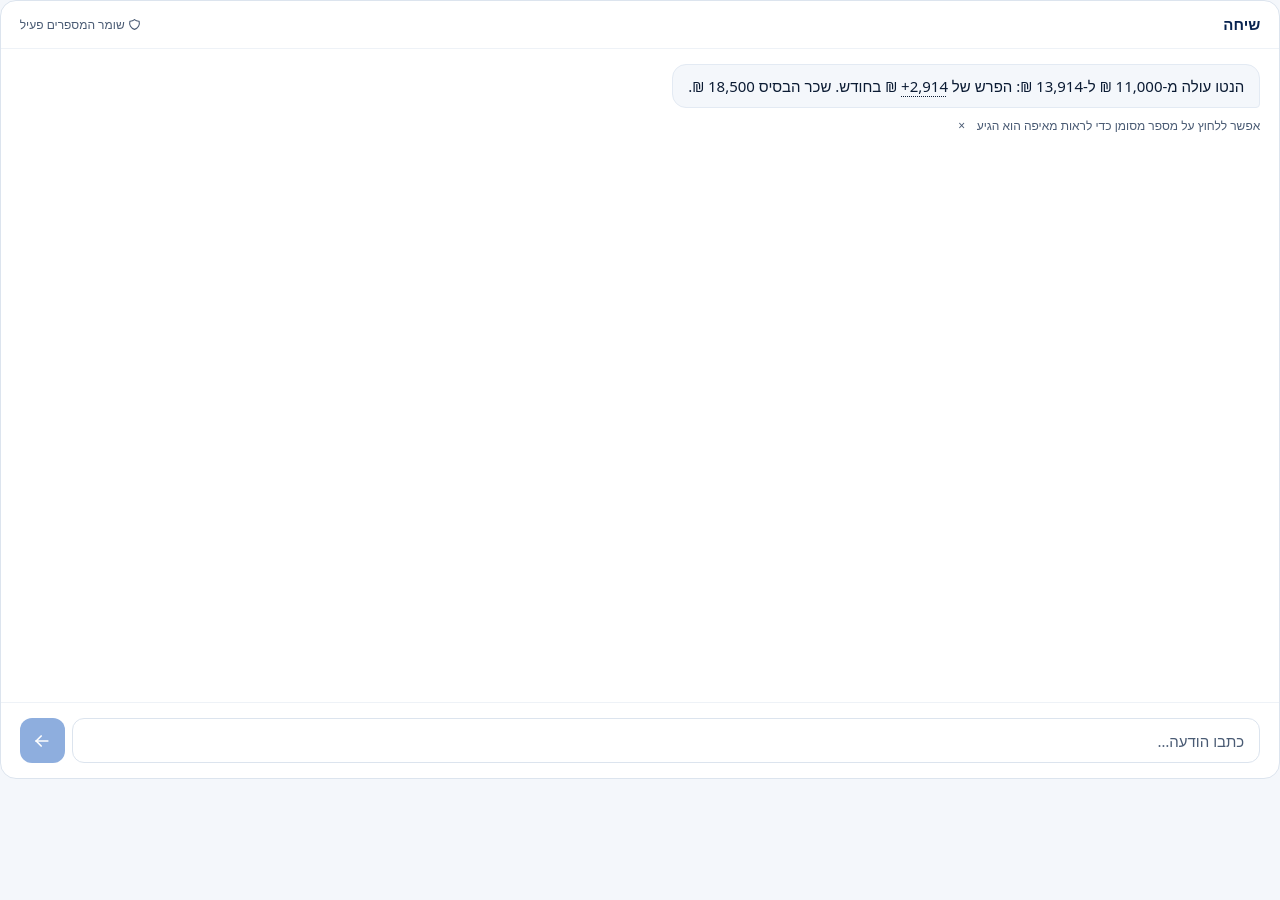
Scenario: the one-time hint › is dismissed with its button and stays dismissed for the browser session
This screenshot has width=1280, height=900.
Click the button named "הסתרת הטיפ": click(962, 125) [950,114,973,136]
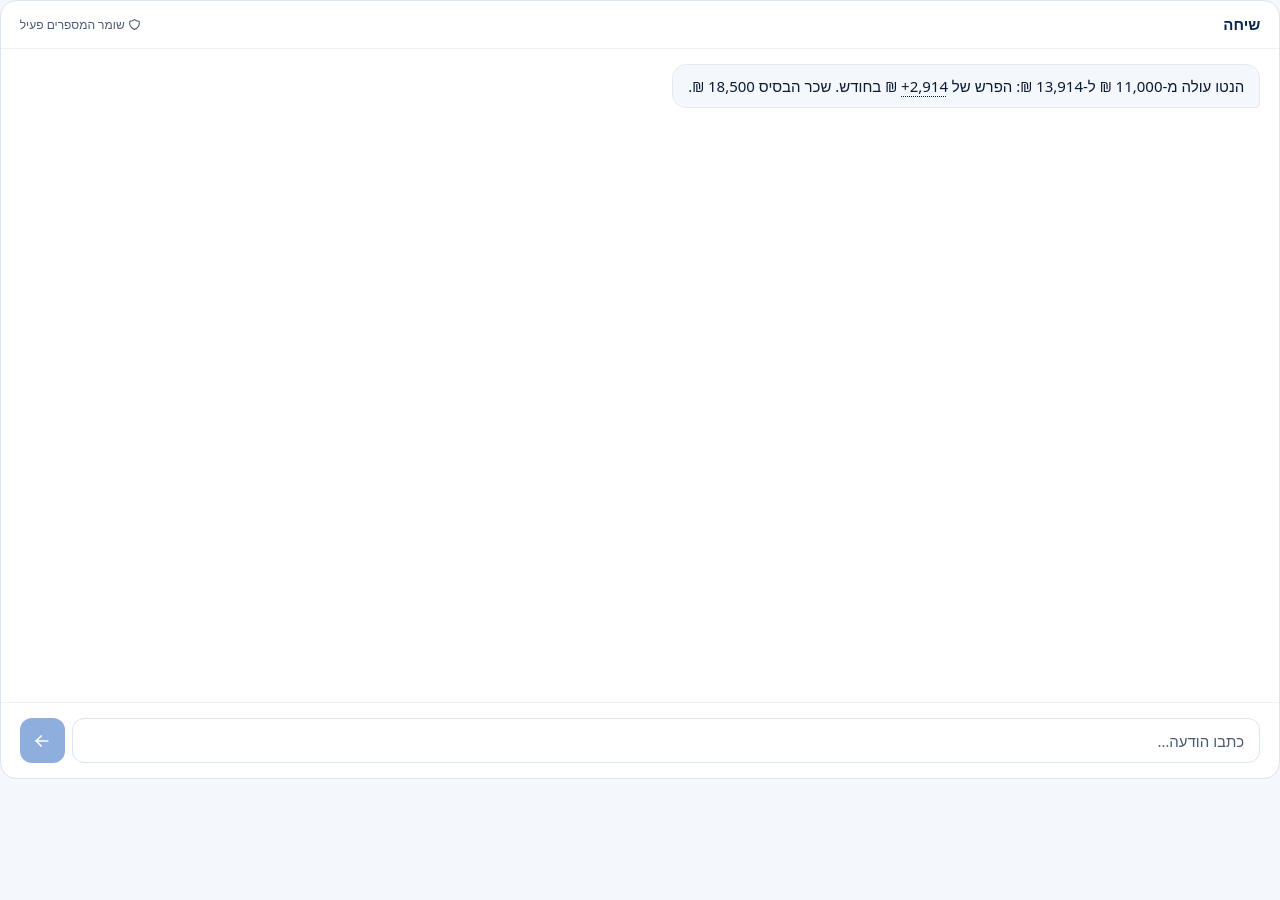
Result: the element with test id "number-source-hint" is gone
